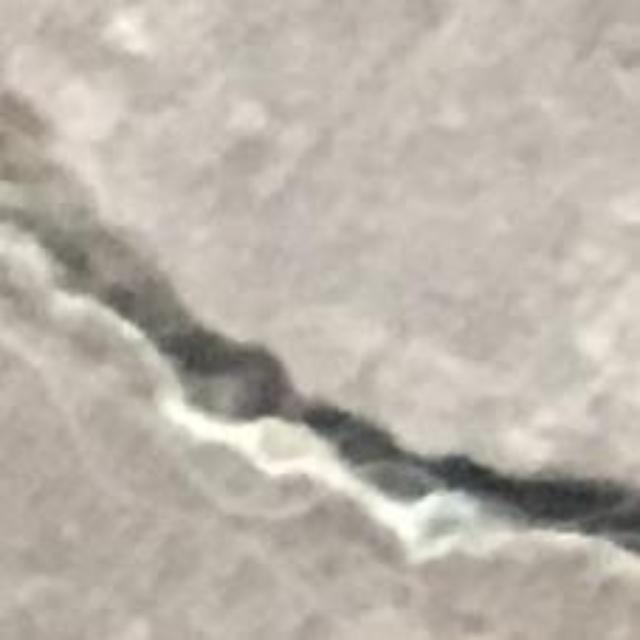crack: (0, 119, 639, 549)
